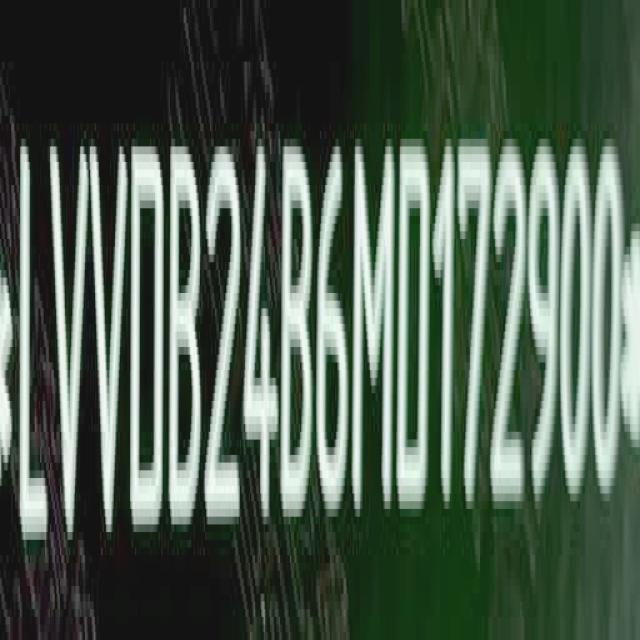0: (590, 129, 622, 497), (560, 137, 590, 494)
1: (429, 137, 456, 508)
2: (204, 146, 243, 537), (493, 131, 526, 514)
4: (243, 140, 280, 520)
6: (315, 151, 348, 520)
7: (457, 131, 492, 517)
9: (525, 137, 560, 497)
B: (282, 140, 316, 520), (169, 152, 202, 532)
D: (129, 143, 166, 545), (395, 131, 430, 520)
L: (17, 128, 49, 542)
M: (348, 131, 396, 520)
V: (50, 128, 90, 537), (90, 140, 127, 534)
